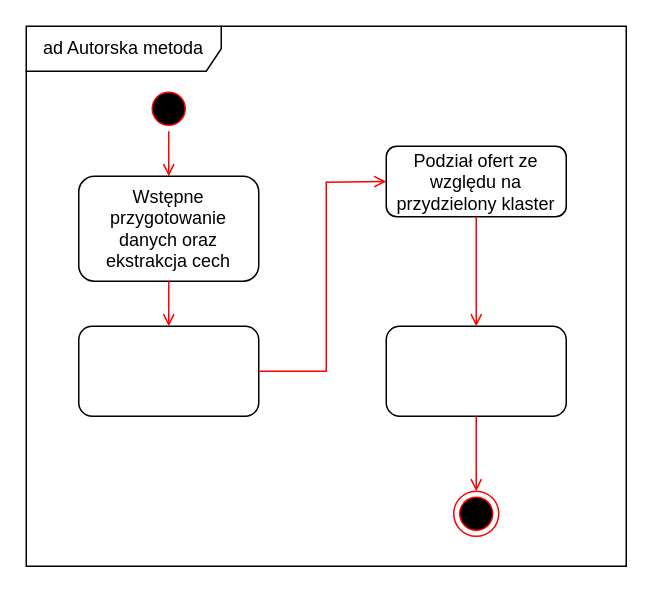
Image size: 653x593. Some labels were removed from this diagram. Each missing label, with the box of its shape:
Klasteryzacja algorytmem KMeans lub CMeans: (77, 325, 259, 416)
Wybór klastra z ofertami o większym stopniu wiarygodności: (385, 325, 566, 416)
